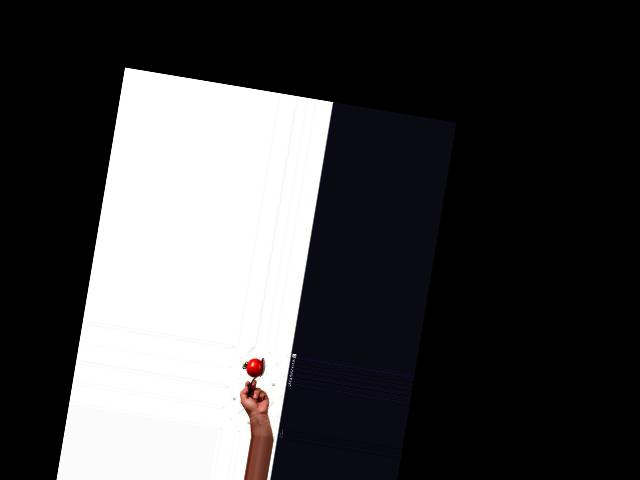tomato: (245, 357, 263, 378)
